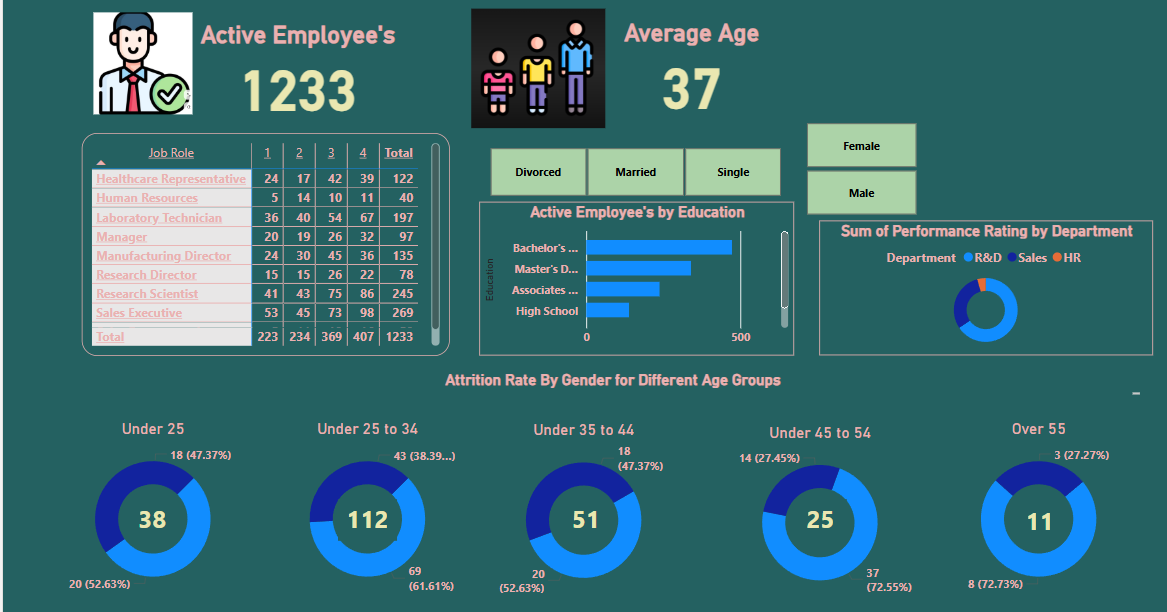

The dashboard page shown, as its layout file describes it:
{"tool":"powerbi","page":{"name":"Page 2","canvas":[1280,720],"ordinal":1},"visuals":[{"type":"card","title":"Active Employee''s","fields":{"Values":["HR data.Active Employee's"]},"box":[183.7,68.8,279.9,108.4],"z":0,"group":"g1"},{"type":"pivotTable","fields":{"Rows":["HR data.Job Role"],"Values":["HR data.Active Employee's"],"Columns":["HR data.Job Satisfaction"]},"box":[86.9,191.8,404.2,244.9],"z":0},{"type":"card","title":"Average Age","fields":{"Values":["Avg(HR data.Age)"]},"box":[616.6,65.9,279.9,108.4],"z":1000,"group":"g1"},{"type":"donutChart","fields":{"Y":["Sum(HR data.Performance Rating)"],"Category":["HR data.Department"]},"box":[896.1,288.2,366.4,148.2],"z":1000},{"type":"clusteredBarChart","fields":{"Y":["HR data.Active Employee's"],"Category":["HR data.Education"]},"box":[522.8,267.6,345.8,168.8],"z":2000},{"type":"slicer","fields":{"Values":["HR data.Marital Status"]},"box":[509.1,201.7,369.1,65.9],"z":3000},{"type":"slicer","fields":{"Values":["HR data.Gender"]},"box":[856.3,174.3,170.2,113.9],"z":4000},{"type":"group","id":"g1","title":"Group 1","box":[183.7,65.9,712.9,111.3],"z":5000},{"type":"image","box":[503.6,50.8,167.4,141.3],"z":6000},{"type":"image","box":[86.4,54.9,134.5,122.1],"z":7000},{"type":"donutChart","title":"Under 25","fields":{"Category":["HR data.Gender"],"Y":["Sum(HR data.Attrition count)"],"Series":["HR data.CF_age band"]},"box":[30.2,506.3,269,200],"z":8000},{"type":"textbox","title":"Attrition Rate By Gender for Different Age Groups","box":[86.4,452.8,1166.4,31.6],"z":9000},{"type":"donutChart","title":"Under 25 to 34","fields":{"Category":["HR data.Gender"],"Y":["Sum(HR data.Attrition count)"],"Series":["HR data.CF_age band"]},"box":[266.2,506.3,268,200],"z":10000},{"type":"donutChart","title":"Under 35 to 44","fields":{"Category":["HR data.Gender"],"Y":["Sum(HR data.Attrition count)"],"Series":["HR data.CF_age band"]},"box":[503.6,507.7,268,200],"z":11000},{"type":"donutChart","title":"Under 45 to 54","fields":{"Category":["HR data.Gender"],"Y":["Sum(HR data.Attrition count)"],"Series":["HR data.CF_age band"]},"box":[763,510.5,268,200],"z":12000},{"type":"donutChart","title":"Over 55","fields":{"Category":["HR data.Gender"],"Y":["Sum(HR data.Attrition count)"],"Series":["HR data.CF_age band"]},"box":[1003.1,506.3,268,200],"z":13000},{"type":"card","fields":{"Values":["Sum(HR data.Attrition count)"]},"box":[138.7,596,50.7,45.8],"z":14000},{"type":"card","fields":{"Values":["Sum(HR data.Attrition count)"]},"box":[138.7,593.6,50.7,45.8],"z":15000},{"type":"card","fields":{"Values":["Sum(HR data.Attrition count)"]},"box":[614.1,593.6,50.7,45.8],"z":16000},{"type":"card","fields":{"Values":["Sum(HR data.Attrition count)"]},"box":[368,593.6,65.1,45.8],"z":17000},{"type":"card","fields":{"Values":["Sum(HR data.Attrition count)"]},"box":[868.6,593.6,57.9,45.8],"z":18000},{"type":"card","fields":{"Values":["Sum(HR data.Attrition count)"]},"box":[1112.3,596,50.7,45.8],"z":19000}]}

Visuals, with their boxes on the page's 1280x720 design canvas (x1, y1, x2, y2). These are canvas units, not pixel positions in the 1167x612 screenshot, which may show the page scaled, cropped or inside an application window:
"Active Employee''s" card: (184, 69, 464, 177)
pivotTable - HR data.Job Role x HR data.Active Employee's: (87, 192, 491, 437)
"Average Age" card: (617, 66, 896, 174)
donutChart - Sum(HR data.Performance Rating) x HR data.Department: (896, 288, 1262, 436)
clusteredBarChart - HR data.Active Employee's x HR data.Education: (523, 268, 869, 436)
slicer - HR data.Marital Status: (509, 202, 878, 268)
slicer - HR data.Gender: (856, 174, 1026, 288)
"Group 1" group: (184, 66, 897, 177)
image: (504, 51, 671, 192)
image: (86, 55, 221, 177)
"Under 25" donutChart: (30, 506, 299, 706)
"Attrition Rate By Gender for Different Age Groups" textbox: (86, 453, 1253, 484)
"Under 25 to 34" donutChart: (266, 506, 534, 706)
"Under 35 to 44" donutChart: (504, 508, 772, 708)
"Under 45 to 54" donutChart: (763, 510, 1031, 710)
"Over 55" donutChart: (1003, 506, 1271, 706)
card - Sum(HR data.Attrition count): (139, 596, 189, 642)
card - Sum(HR data.Attrition count): (139, 594, 189, 639)
card - Sum(HR data.Attrition count): (614, 594, 665, 639)
card - Sum(HR data.Attrition count): (368, 594, 433, 639)
card - Sum(HR data.Attrition count): (869, 594, 926, 639)
card - Sum(HR data.Attrition count): (1112, 596, 1163, 642)
